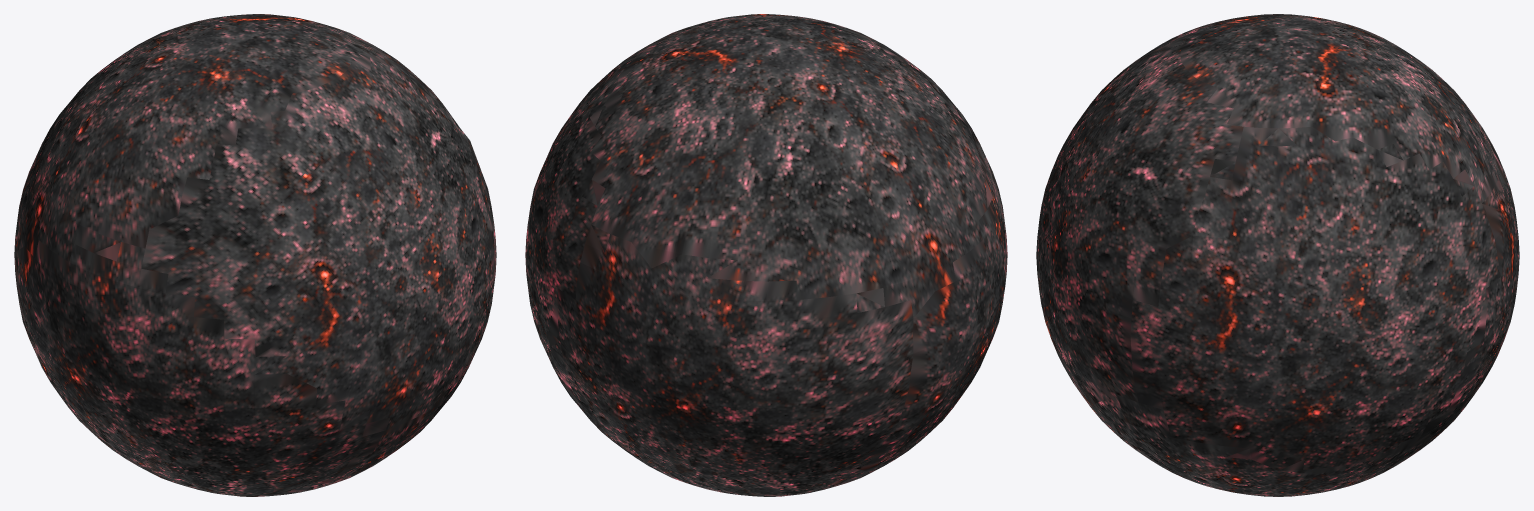
Rendered from planet_01.glb.
The picture shows the model from 3 angles, left to right: view 1: azimuth 30°, elevation 25°; view 2: azimuth 150°, elevation 25°; view 3: azimuth 270°, elevation 25°; orthographic projection.
Parts seen in each view (by area): view 1: Mesh_0; view 2: Mesh_0; view 3: Mesh_0.
Boxes of the visible parts, x1,y1,x2,y2 form: Mesh_0: [14, 14, 496, 496]; Mesh_0: [525, 14, 1007, 496]; Mesh_0: [1036, 14, 1519, 496].
Size of the model in its own units: 1.91 by 1.91 by 1.91.
Materials: 1 (1 with a texture image).
